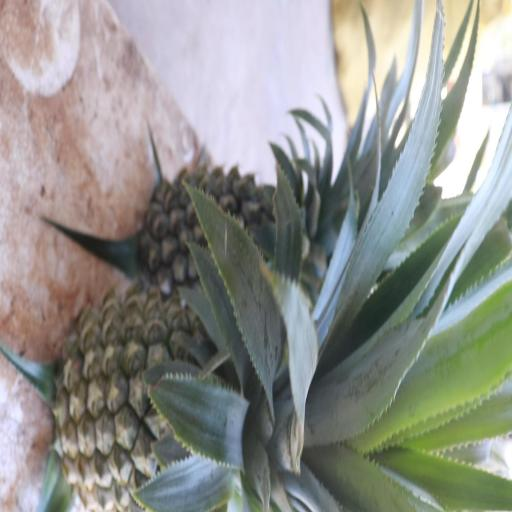------------------------------: (54, 292, 280, 503)
